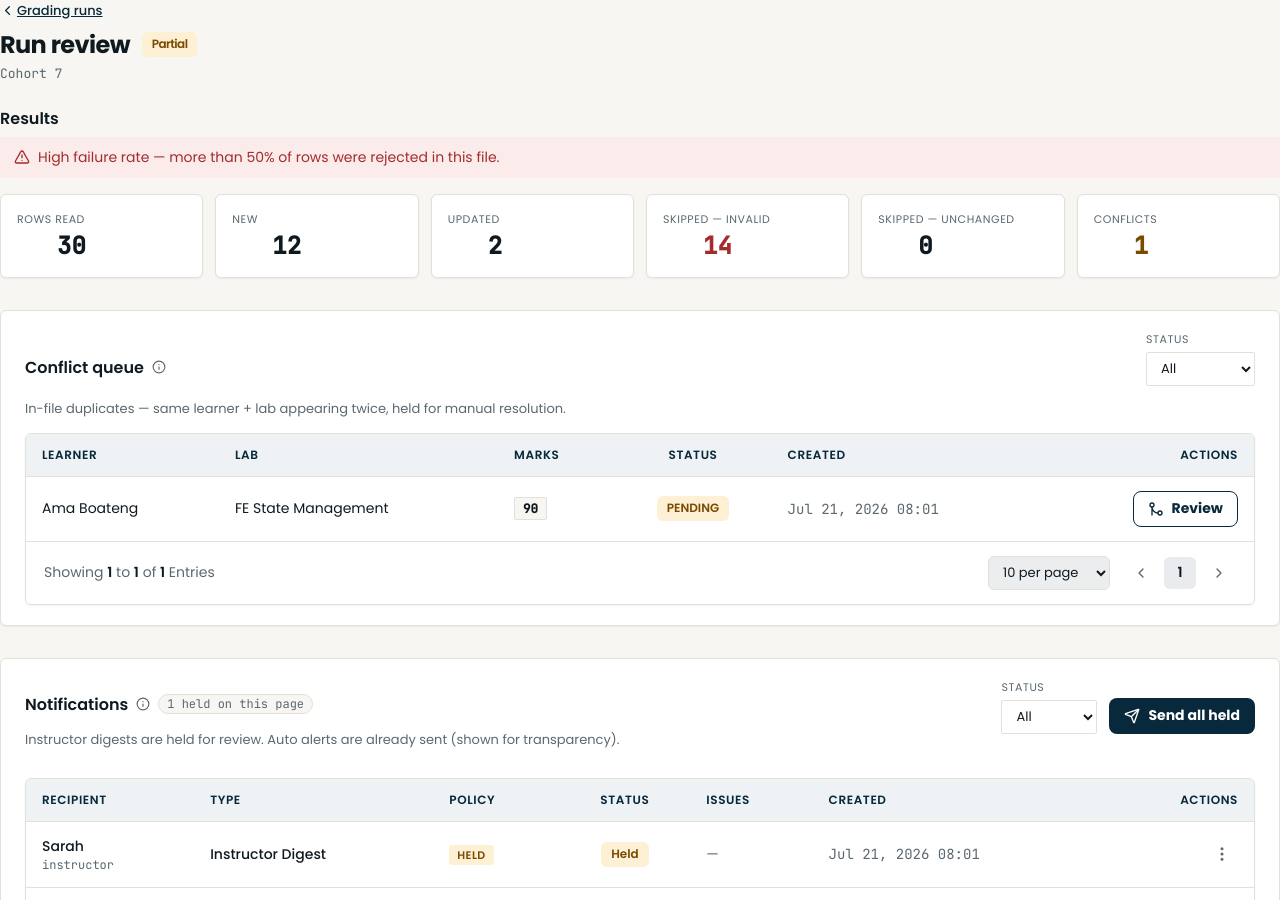
it: RunReviewView › shows the backend error inline in the drawer and keeps it open when resolving fails
What coordinates should you click on to do the following:
click the button "Review"
I would click on:
 (1185, 508)
Its box is [1133, 490, 1238, 526].
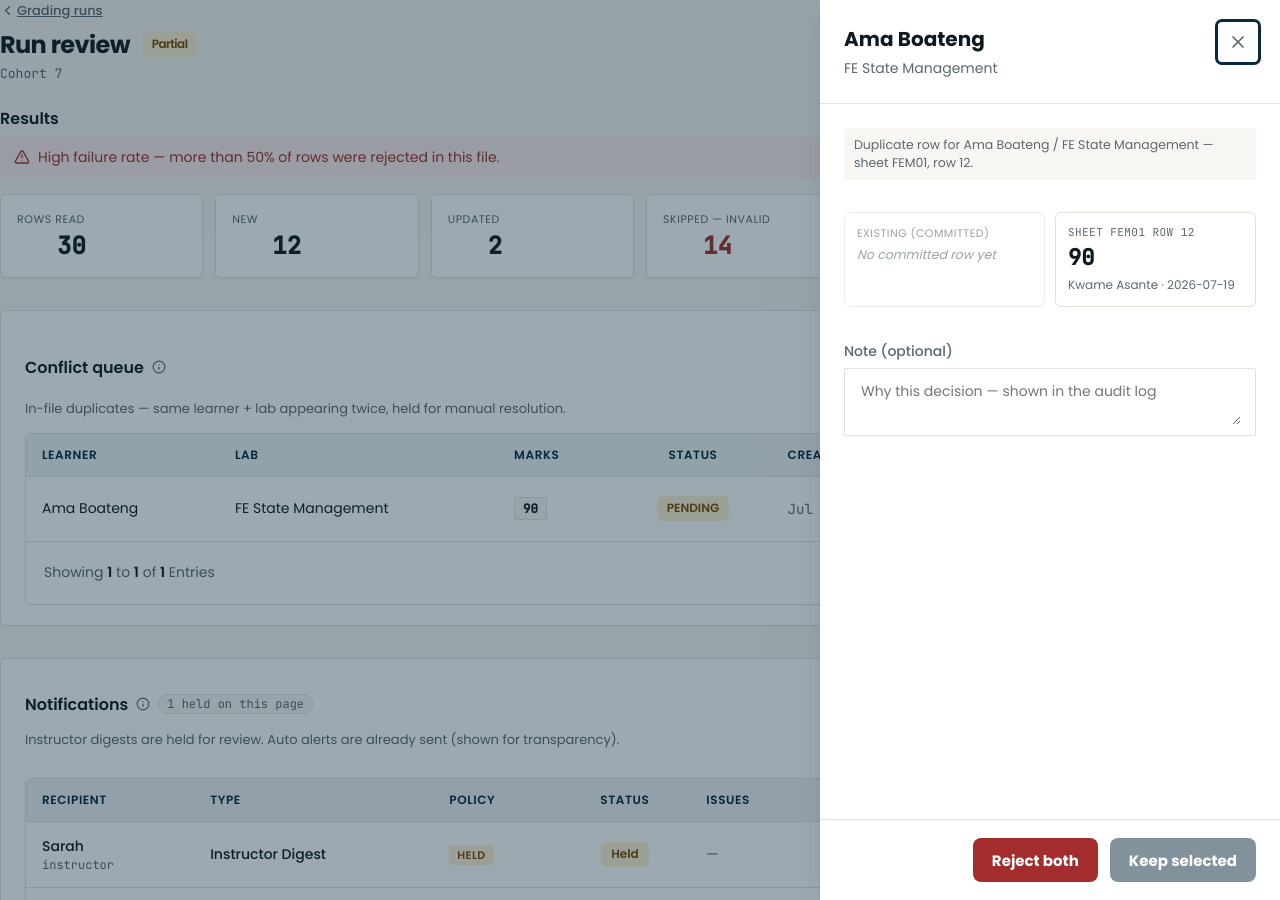
What coordinates should you click on to do the following:
click the radio button with class "compare-card" that starts with "sheet FEM01 row 12"
I would click on:
 (1156, 260)
Its box is [1055, 212, 1256, 307].
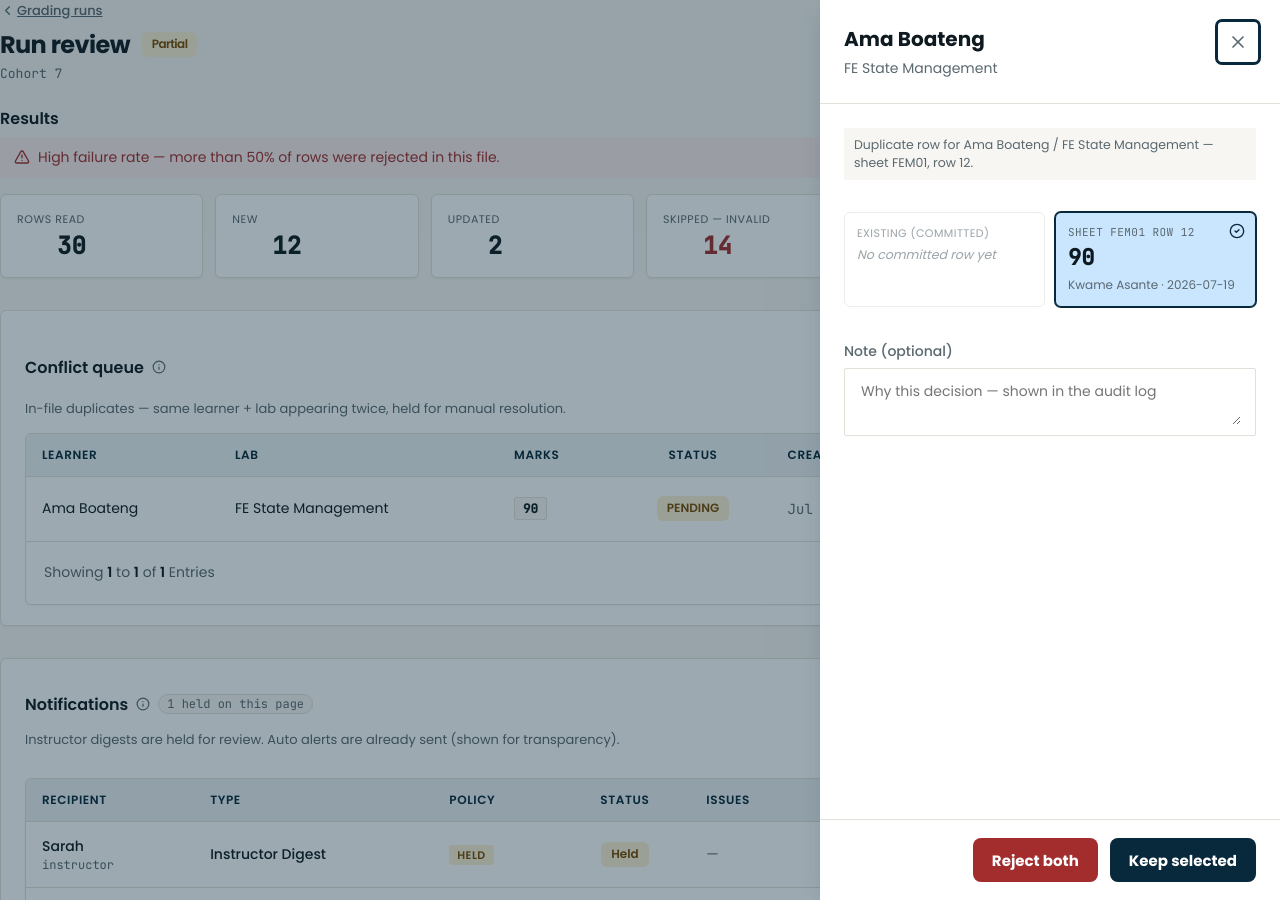
What coordinates should you click on to do the following:
click the button "Keep selected"
I would click on:
 (1183, 860)
Its box is [1110, 838, 1256, 882].
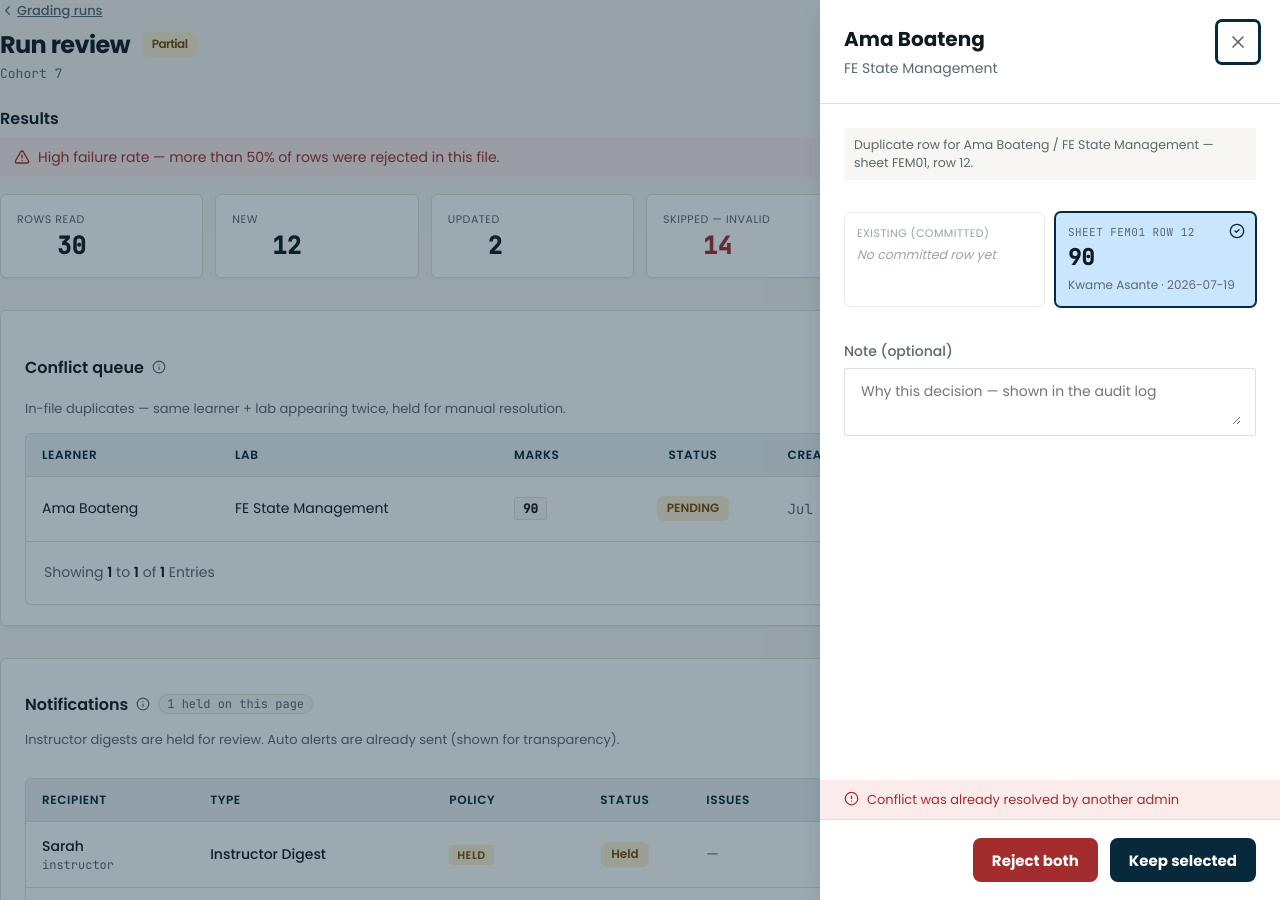
Result: the text "Conflict was already resolved by another admin" is shown at [820, 780, 1279, 819]
